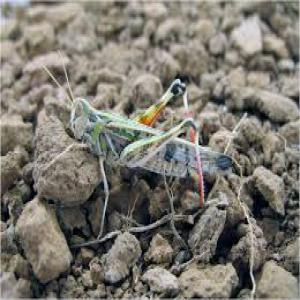locust: (68, 74, 247, 197)
